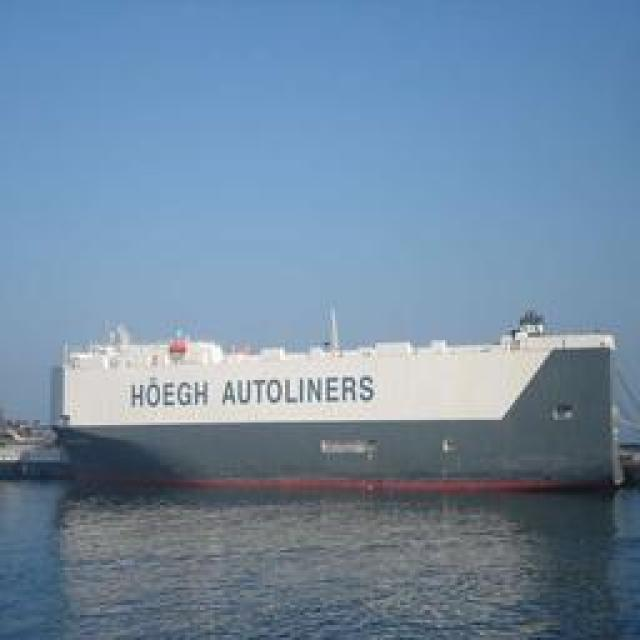CIV_Ship: (54, 295, 624, 485)
